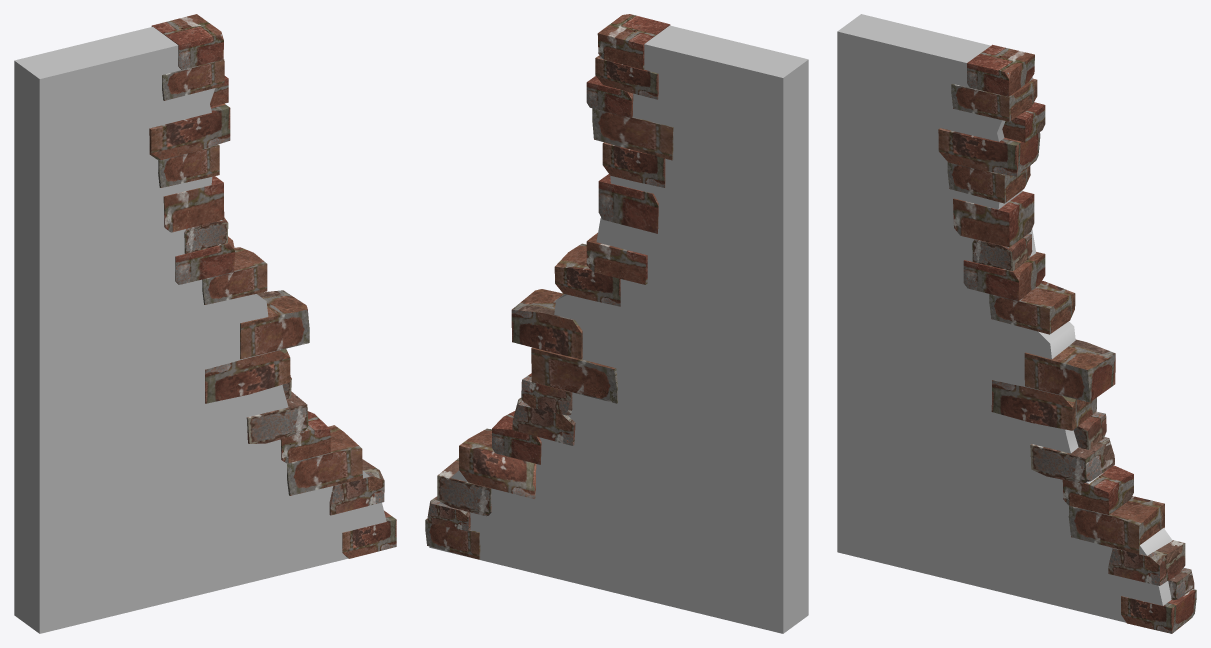
File: SM_Wall_Ruined_07.fbx
3 renders of one model, left to right at view 1: azimuth 30°, elevation 25°; view 2: azimuth 150°, elevation 25°; view 3: azimuth 330°, elevation 25°, orthographic. The views are drawn at different scales.
Visible parts, largest first — view 1: SM_Wall_Ruined_07_LOD0; view 2: SM_Wall_Ruined_07_LOD0; view 3: SM_Wall_Ruined_07_LOD0.
Part boxes in pixels (left/top/right/bottom): SM_Wall_Ruined_07_LOD0: left=14, top=14, right=396, bottom=633; SM_Wall_Ruined_07_LOD0: left=425, top=14, right=808, bottom=633; SM_Wall_Ruined_07_LOD0: left=837, top=14, right=1196, bottom=633.
Size of what is drawn, in the model's own units: 404 by 601 by 58.44.
